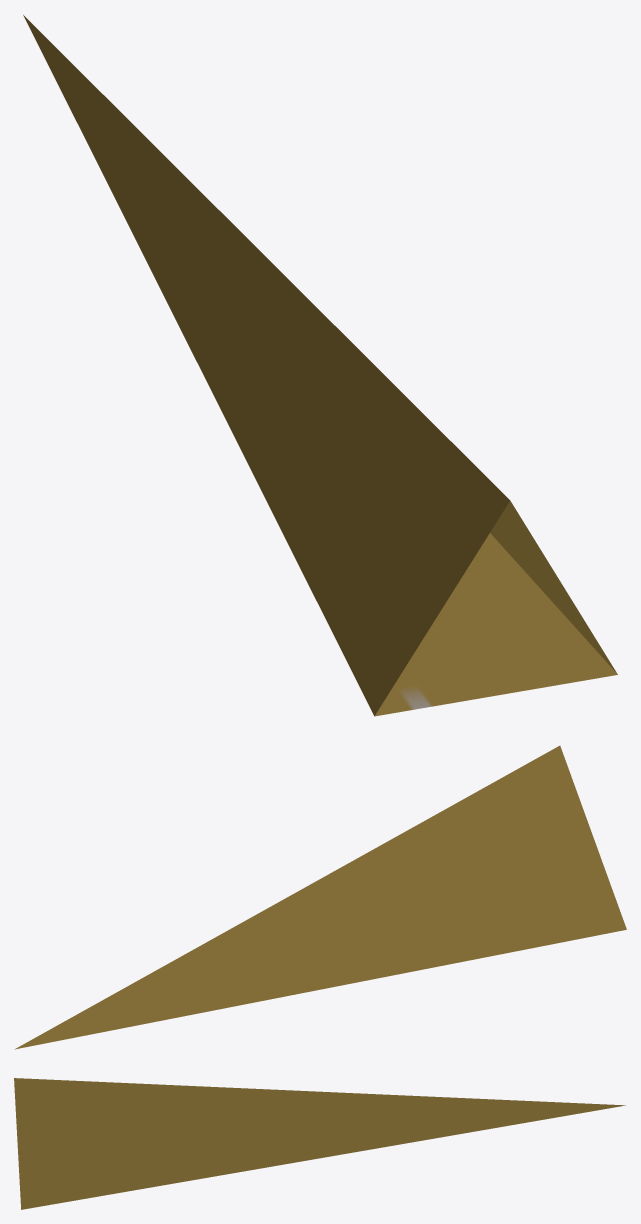
The model's file is spike.fbx.
The picture shows the model from 3 angles, top to bottom: view 1: azimuth 30°, elevation 25°; view 2: azimuth 150°, elevation 25°; view 3: azimuth 270°, elevation 25°; orthographic projection. The views are drawn at different scales.
Parts seen in each view (by area): view 1: Particle Spike.001; view 2: Particle Spike.001; view 3: Particle Spike.001.
Boxes of the visible parts, bbox=[...] form: Particle Spike.001: bbox=[23, 15, 617, 716]; Particle Spike.001: bbox=[14, 745, 626, 1049]; Particle Spike.001: bbox=[14, 1078, 625, 1209].
Size of the model in its own units: 9.33 by 8 by 41.48.
Materials: 1 (1 with a texture image).
